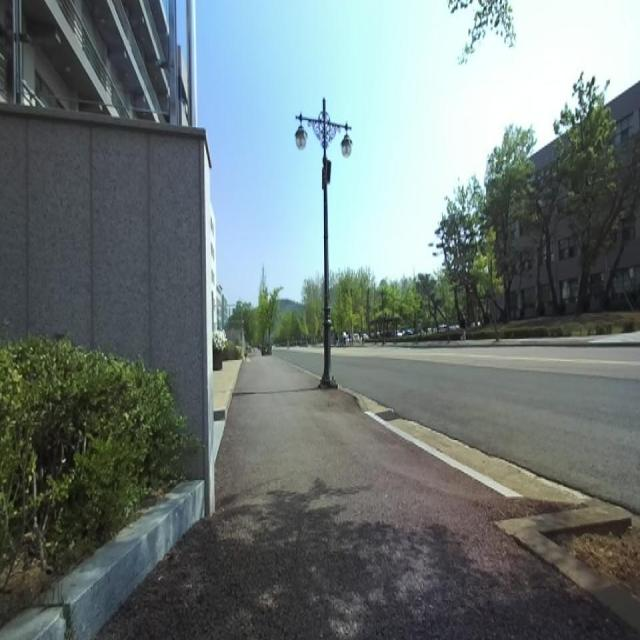sidewalk: (99, 356, 635, 639), (500, 335, 616, 342), (587, 332, 640, 343)
